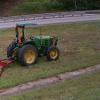Tractor: (8, 18, 75, 76)
